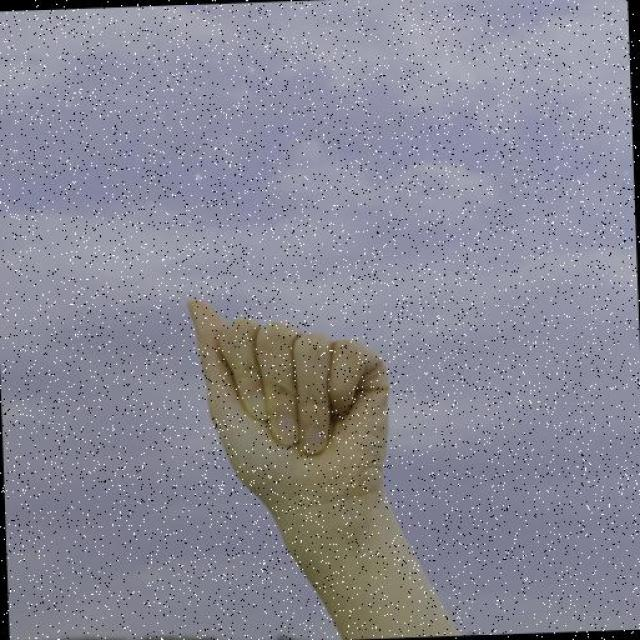A: (183, 279, 397, 532)
